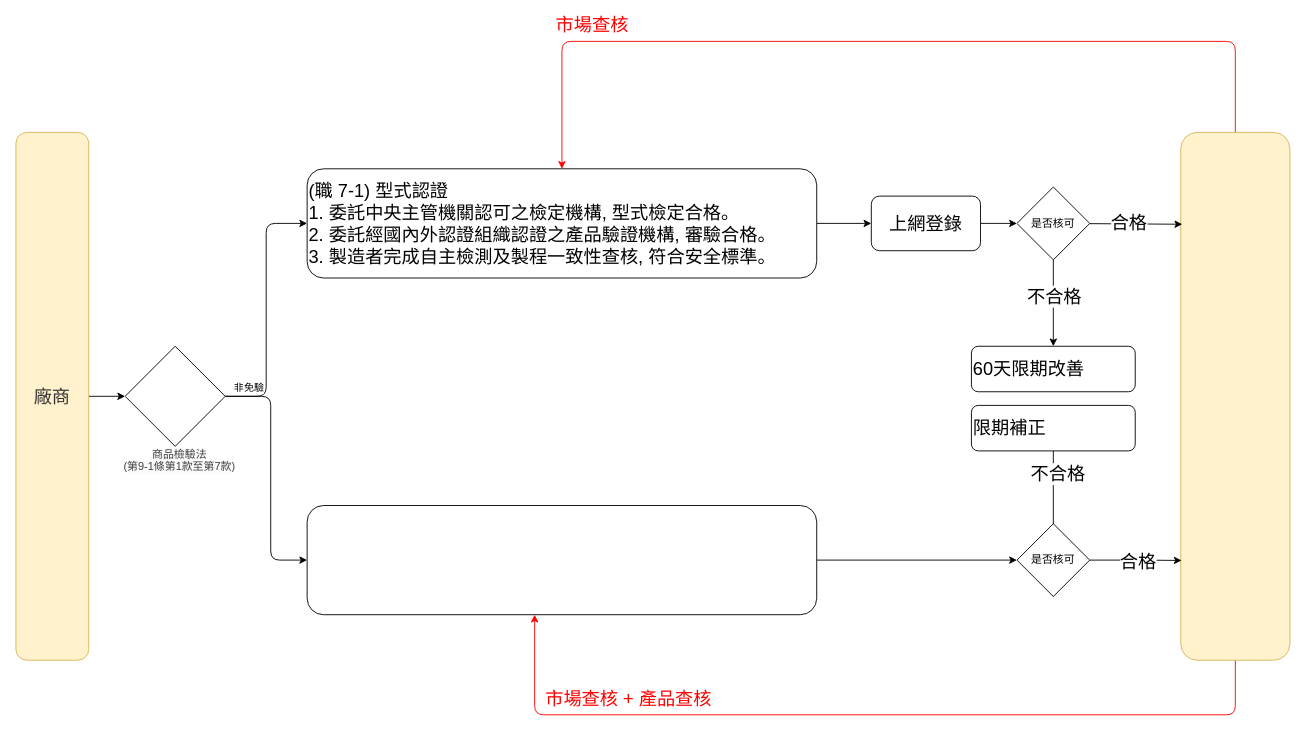
This 1306x738 diagram has some shape labels left out. Here are the shapes that lost their labels. From the top down, the centre of each, then its label:
At pixel 174 395: "免驗 與否".
At pixel 1235 395: "市場".
At pixel 561 560: "(職 7-3) 型式驗證".
